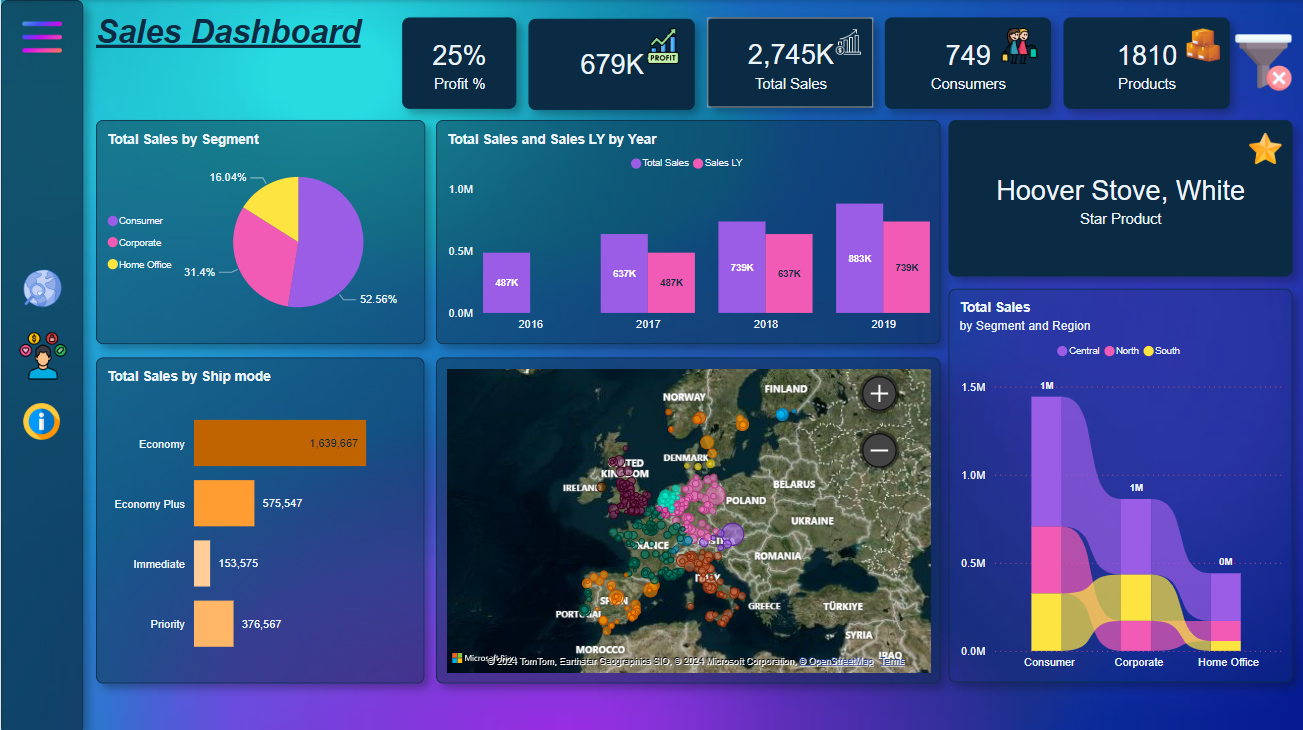

What the dashboard file says about the page in this screenshot:
{"tool":"powerbi","page":{"name":"Home","canvas":[1280,720],"ordinal":0},"visuals":[{"type":"textbox","box":[93.2,13.6,360.4,45],"z":0},{"type":"shape","box":[0,0,80.6,719.9],"z":1000},{"type":"image","box":[0,0,80.6,72.3],"z":2000},{"type":"card","fields":{"Values":["#Measures.Consumers"]},"box":[868.1,17.6,163.4,89.5],"z":3000},{"type":"card","fields":{"Values":["#Measures.Products"]},"box":[1043.1,17.6,163.4,89.5],"z":4000},{"type":"image","box":[1199,22.7,81,75.3],"z":5000},{"type":"image","box":[1153.4,16,52.9,56.6],"z":6000},{"type":"image","box":[966.5,17.2,65.2,55.3],"z":7000},{"type":"card","fields":{"Values":["#Measures.Profit %"]},"box":[394.2,17.6,111.9,89.8],"z":8000},{"type":"card","fields":{"Values":["#Measures.Total Profit"]},"box":[517.7,18,163.5,89.8],"z":9000},{"type":"card","fields":{"Values":["#Measures.Total Sales"]},"box":[692.9,17.6,163.5,88.5],"z":10000},{"type":"image","box":[0,247.9,81,69.9],"z":11000},{"type":"image","box":[807.7,17.8,48.2,45],"z":12000},{"type":"image","box":[619.7,17.2,61.5,55.3],"z":13000},{"type":"pieChart","fields":{"Category":["dsegment.Segment"],"Y":["#Measures.Total Sales"]},"box":[92.9,118.2,323.2,220.2],"z":14000},{"type":"clusteredColumnChart","fields":{"Y":["#Measures.Total Sales","#Measures.Sales LY"],"Category":["DateTable.Year"]},"box":[427.3,118.2,494.9,220.2],"z":15000},{"type":"barChart","fields":{"Y":["#Measures.Total Sales"],"Category":["dshipmode.Ship mode"]},"box":[93.4,350.4,322.2,319.7],"z":16000},{"type":"card","fields":{"Values":["#Measures.Star Product"]},"box":[930.1,117.8,337.4,153.4],"z":17000},{"type":"image","box":[1214.7,117.8,52.8,56.4],"z":18000},{"type":"map","fields":{"Y":["dregion.lat"],"X":["dregion.lon"],"Series":["dregion.Country"],"Size":["#Measures.Total Sales"]},"box":[426.7,350.4,495.5,319.7],"z":20000},{"type":"ribbonChart","fields":{"Y":["#Measures.Total Sales"],"Category":["dsegment.Segment"],"Series":["dregion.Region"]},"box":[930.1,283.4,337.4,386.5],"z":20001},{"type":"image","box":[9.8,385.3,60.1,56.4],"z":20002},{"type":"image","box":[4.9,312.9,72.4,72.4],"z":20003}]}

Visuals, with their boxes on the page's 1280x720 design canvas (x1, y1, x2, y2). These are canvas units, not pixel positions in the 1303x730 screenshot, which may show the page scaled, cropped or inside an application window:
textbox: x1=93 y1=14 x2=454 y2=59
shape: x1=0 y1=0 x2=81 y2=720
image: x1=0 y1=0 x2=81 y2=72
card - #Measures.Consumers: x1=868 y1=18 x2=1032 y2=107
card - #Measures.Products: x1=1043 y1=18 x2=1206 y2=107
image: x1=1199 y1=23 x2=1280 y2=98
image: x1=1153 y1=16 x2=1206 y2=73
image: x1=966 y1=17 x2=1032 y2=72
card - #Measures.Profit %: x1=394 y1=18 x2=506 y2=107
card - #Measures.Total Profit: x1=518 y1=18 x2=681 y2=108
card - #Measures.Total Sales: x1=693 y1=18 x2=856 y2=106
image: x1=0 y1=248 x2=81 y2=318
image: x1=808 y1=18 x2=856 y2=63
image: x1=620 y1=17 x2=681 y2=72
pieChart - dsegment.Segment x #Measures.Total Sales: x1=93 y1=118 x2=416 y2=338
clusteredColumnChart - #Measures.Total Sales x #Measures.Sales LY: x1=427 y1=118 x2=922 y2=338
barChart - #Measures.Total Sales x dshipmode.Ship mode: x1=93 y1=350 x2=416 y2=670
card - #Measures.Star Product: x1=930 y1=118 x2=1268 y2=271
image: x1=1215 y1=118 x2=1268 y2=174
map - dregion.lat x dregion.lon: x1=427 y1=350 x2=922 y2=670
ribbonChart - #Measures.Total Sales x dsegment.Segment: x1=930 y1=283 x2=1268 y2=670
image: x1=10 y1=385 x2=70 y2=442
image: x1=5 y1=313 x2=77 y2=385
